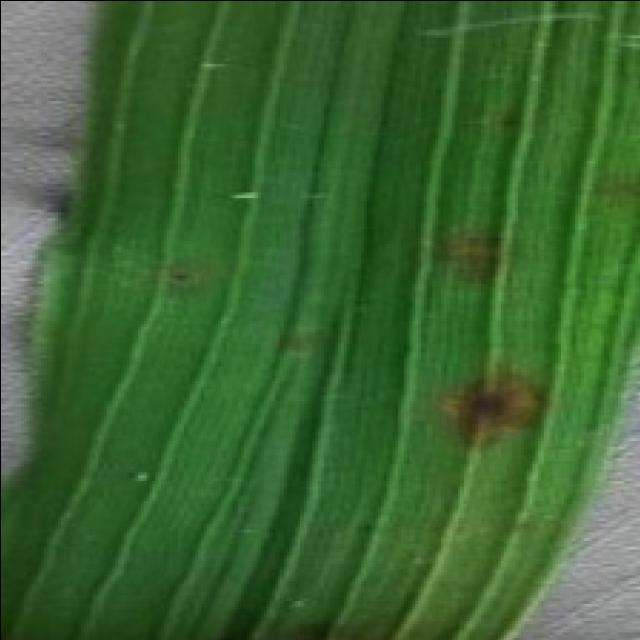Unhealthy: (448, 366, 547, 452), (419, 226, 508, 287), (269, 614, 370, 640), (139, 266, 202, 297)
